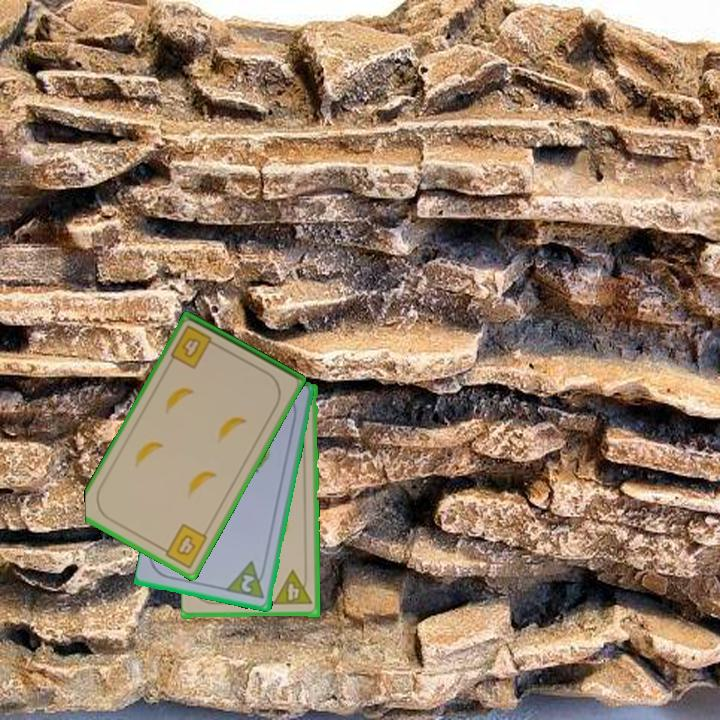2p: (238, 571, 257, 595)
4b: (167, 322, 222, 372), (157, 520, 210, 571)
4p: (271, 568, 315, 608)
